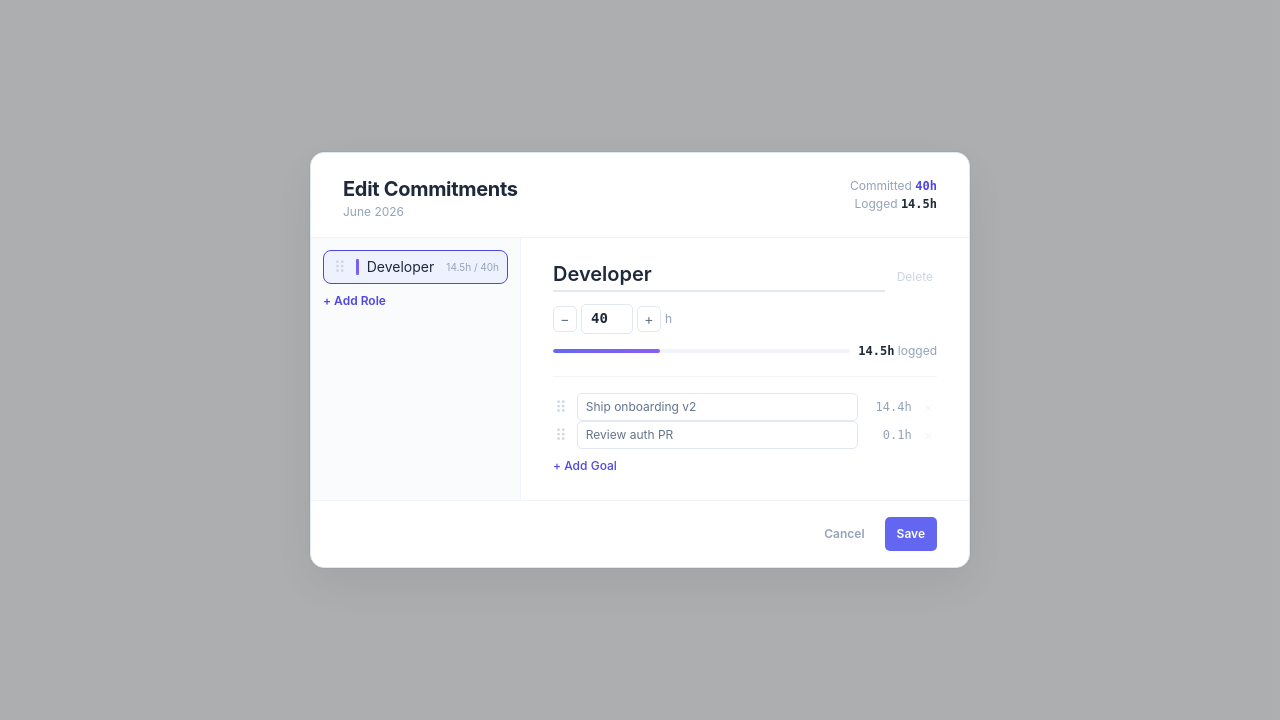
Test: CommitmentsModal — allocation stepper › increments by 5 on +
Click the button with test id "alloc-inc".
click(649, 319)  # box x1=637 y1=306 x2=661 y2=332
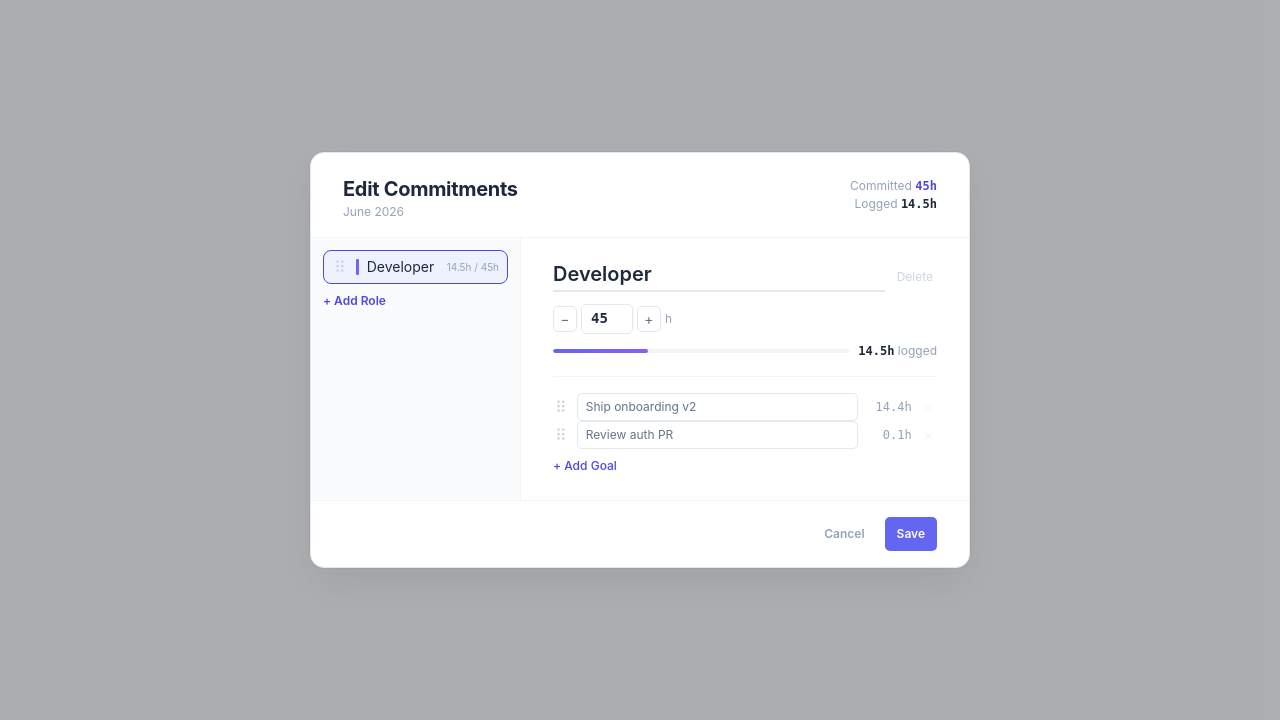
Expected: the number field with test id "alloc" holds "45", x1=581 y1=304 x2=633 y2=334
